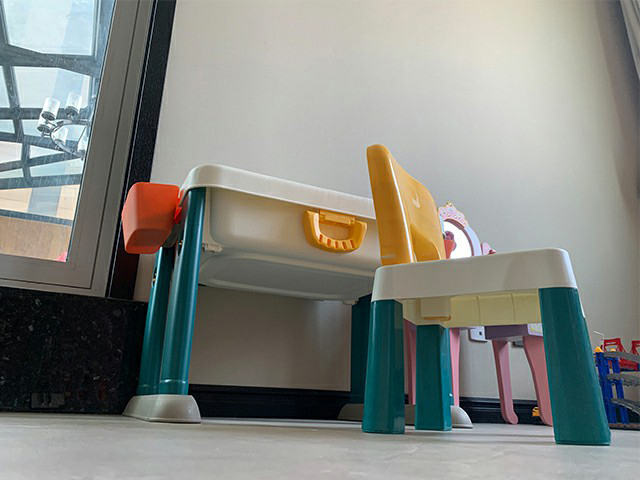stool: (361, 143, 615, 444)
table: (122, 163, 474, 429)
